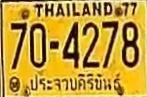0: (29, 22, 45, 67)
2: (82, 22, 98, 67)
4: (62, 21, 78, 67)
7: (10, 22, 26, 68), (102, 21, 118, 66)
8: (121, 21, 138, 66)
PKN: (26, 71, 126, 94)
